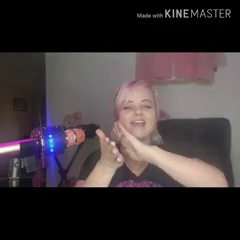H: (91, 121, 149, 171)
